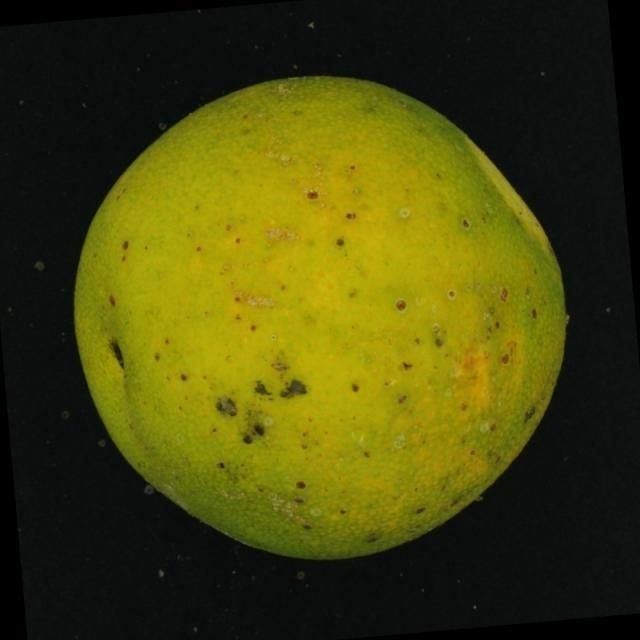grenning: (70, 68, 581, 572)
